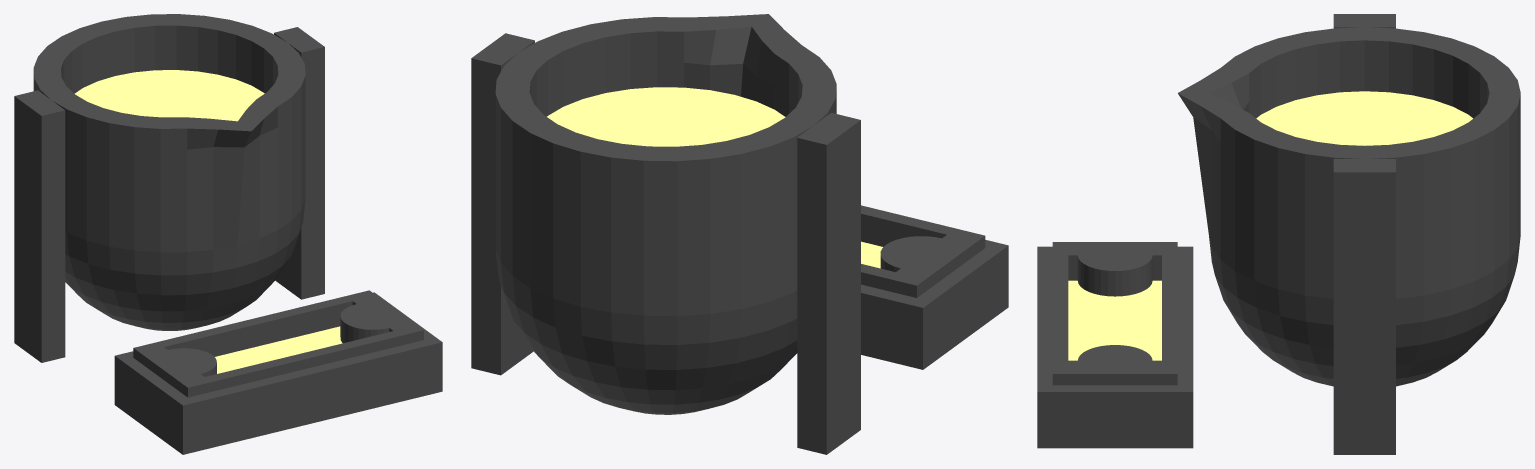
Rendered from steel_furnace.gltf.
3 renders of one model, left to right at view 1: azimuth 30°, elevation 25°; view 2: azimuth 150°, elevation 25°; view 3: azimuth 270°, elevation 25°, orthographic. The views are drawn at different scales.
Parts seen in each view (by area): view 1: Sphere, Cube.003, Cube.002, Cube.001, Sphere.001, Cube, Cube.005; view 2: Sphere, Cube.001, Cube.003, Cube, Sphere.001, Cube.002; view 3: Sphere, Cube, Cube.003, Cube.002, Sphere.001, Cube.005, Cube.001.
Boxes of the visible parts, box(x1,y1,x2,y2) form: Sphere: box(33, 14, 305, 330); Cube.003: box(114, 292, 442, 454); Cube.002: box(133, 290, 423, 397); Cube.001: box(14, 90, 65, 362); Sphere.001: box(74, 70, 264, 121); Cube: box(274, 27, 324, 299); Cube.005: box(215, 326, 342, 373); Sphere: box(495, 14, 836, 414); Cube.001: box(797, 113, 860, 454); Cube.003: box(861, 240, 1008, 369); Cube: box(471, 33, 534, 375); Sphere.001: box(547, 87, 785, 146); Cube.002: box(861, 205, 985, 297); Sphere: box(1178, 27, 1520, 386); Cube: box(1333, 159, 1395, 454); Cube.003: box(1037, 246, 1193, 448); Cube.002: box(1052, 242, 1177, 385); Sphere.001: box(1256, 91, 1472, 145); Cube.005: box(1068, 280, 1161, 360); Cube.001: box(1333, 14, 1395, 28).
Size of the model in its own units: 1.2 by 1 by 1.55.
